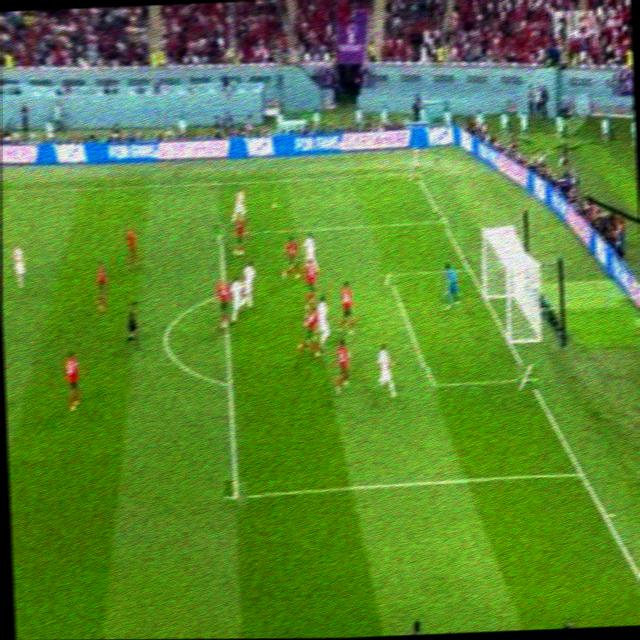bigarea_bottom_inner: (224, 479, 248, 508)
bigarea_bottom_outter: (569, 460, 589, 484)
bigarea_top_inner: (211, 223, 227, 244)
bigarea_top_outter: (432, 210, 448, 228)
bottom_arc_area_intersection: (217, 371, 237, 396)
corner: (405, 165, 422, 181)
smallarea_bottom_inner: (417, 366, 441, 399)
smallarea_bottom_outter: (515, 364, 538, 390)
smallarea_top_inner: (378, 262, 399, 285)
smallarea_top_outter: (459, 256, 477, 279)
